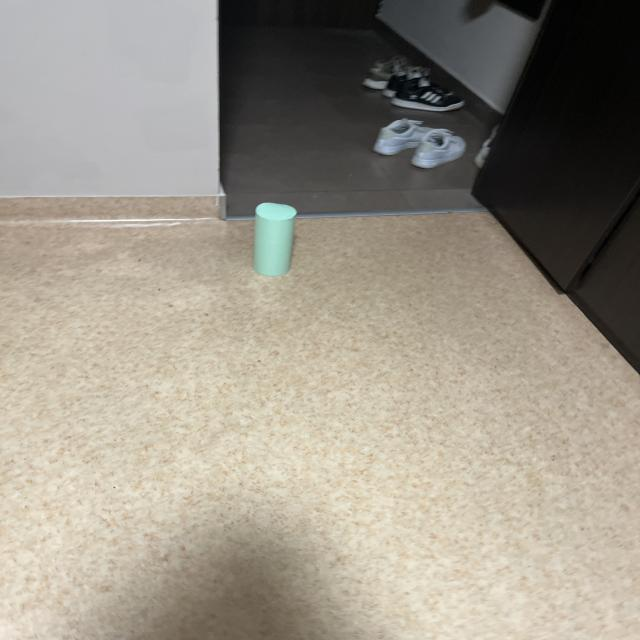meta: (254, 203, 297, 276)
